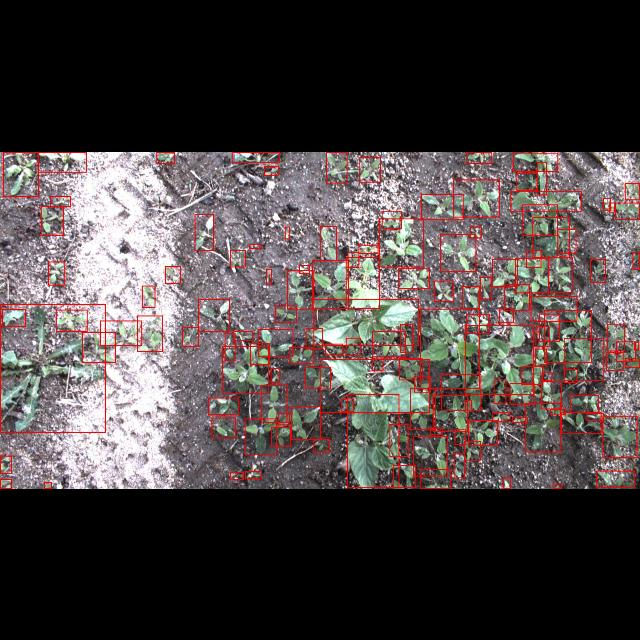crop: (320, 358, 430, 412), (347, 394, 399, 488), (314, 299, 418, 345), (346, 256, 380, 308)
weed: (0, 304, 106, 432), (420, 308, 480, 388), (465, 324, 533, 394), (544, 310, 592, 362), (222, 346, 268, 392), (379, 218, 423, 266), (453, 178, 499, 216), (312, 260, 348, 308), (526, 402, 560, 452), (564, 338, 604, 380), (532, 216, 570, 256), (4, 152, 38, 196), (441, 374, 481, 410), (603, 415, 637, 457), (511, 190, 582, 210), (413, 436, 447, 476), (440, 233, 476, 270), (432, 395, 468, 431), (245, 418, 277, 454), (531, 296, 577, 320), (516, 258, 548, 292), (522, 204, 558, 234), (410, 388, 436, 429), (198, 299, 230, 331), (82, 332, 116, 362), (100, 320, 142, 344), (421, 194, 463, 218), (258, 328, 294, 356), (288, 270, 314, 308), (38, 151, 86, 171), (292, 406, 321, 439), (262, 384, 286, 422), (138, 315, 162, 351), (548, 256, 572, 292), (512, 152, 558, 170), (372, 332, 406, 356), (561, 412, 601, 432), (468, 420, 498, 446), (492, 258, 518, 286), (194, 213, 213, 250), (504, 284, 530, 310), (327, 152, 348, 182), (398, 268, 429, 288), (41, 206, 63, 234), (596, 471, 634, 487), (56, 310, 86, 330), (390, 424, 408, 456), (421, 469, 451, 488), (320, 226, 336, 260), (539, 314, 559, 341), (392, 465, 416, 487), (360, 156, 380, 182), (541, 382, 561, 408), (306, 367, 330, 388), (570, 394, 598, 412), (510, 382, 534, 403), (212, 418, 236, 438), (208, 398, 238, 414), (232, 151, 280, 161), (400, 358, 422, 379), (2, 308, 26, 326), (558, 228, 576, 252), (608, 324, 624, 351), (466, 314, 489, 332), (434, 280, 454, 300), (250, 344, 270, 364), (271, 426, 291, 446), (616, 341, 636, 361), (462, 286, 480, 308), (290, 347, 314, 363), (590, 258, 606, 282), (615, 202, 639, 218), (382, 210, 402, 228), (517, 172, 537, 190), (522, 366, 542, 384), (49, 262, 65, 284), (400, 324, 412, 352), (606, 352, 624, 370), (182, 326, 198, 346), (276, 305, 296, 321), (464, 440, 480, 460), (306, 328, 322, 348), (494, 379, 506, 403), (225, 334, 235, 361), (466, 152, 492, 162), (230, 250, 246, 266), (538, 162, 546, 194), (414, 376, 430, 392), (625, 182, 639, 200), (481, 277, 492, 299), (142, 286, 154, 306), (454, 454, 464, 478), (536, 326, 548, 346), (166, 266, 180, 282), (526, 250, 540, 266), (346, 338, 360, 354), (233, 330, 253, 340), (51, 196, 71, 206), (314, 438, 328, 452), (499, 308, 513, 322), (564, 368, 578, 382), (0, 456, 12, 472), (157, 152, 175, 162), (536, 348, 546, 366), (342, 398, 354, 412), (492, 412, 510, 421), (326, 344, 342, 354), (358, 244, 378, 252), (278, 413, 290, 425), (586, 412, 604, 420), (270, 368, 280, 382), (455, 430, 465, 444), (348, 252, 358, 266), (372, 358, 383, 370), (471, 226, 482, 238), (632, 252, 640, 268), (625, 358, 639, 367), (264, 166, 278, 174), (0, 479, 12, 488), (230, 472, 243, 480), (245, 472, 261, 478), (266, 268, 272, 284), (603, 197, 611, 209), (542, 372, 552, 381), (503, 478, 511, 488), (299, 265, 309, 273), (284, 226, 290, 238), (431, 428, 443, 434), (512, 418, 528, 422), (550, 410, 566, 414), (465, 400, 471, 410), (249, 244, 261, 248), (44, 482, 51, 488), (610, 202, 614, 212), (553, 484, 561, 488), (634, 342, 638, 348)
